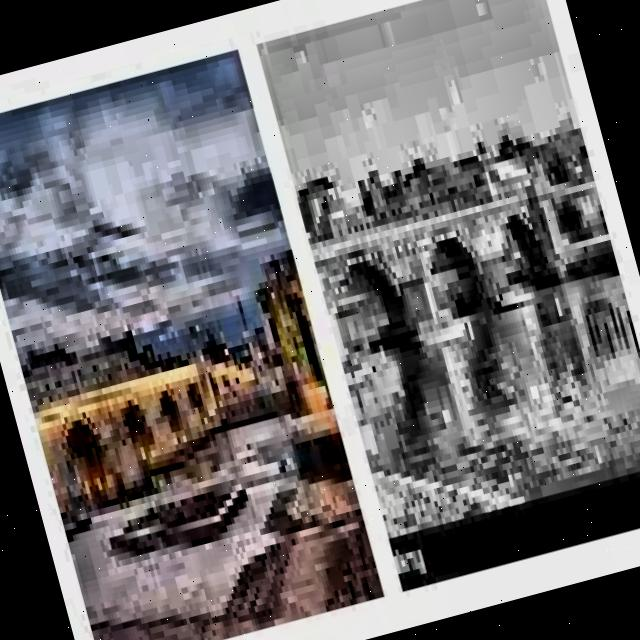Philip II of Macedonia: (228, 295, 268, 375)
stone bridge: (300, 156, 628, 362), (17, 328, 264, 502)
